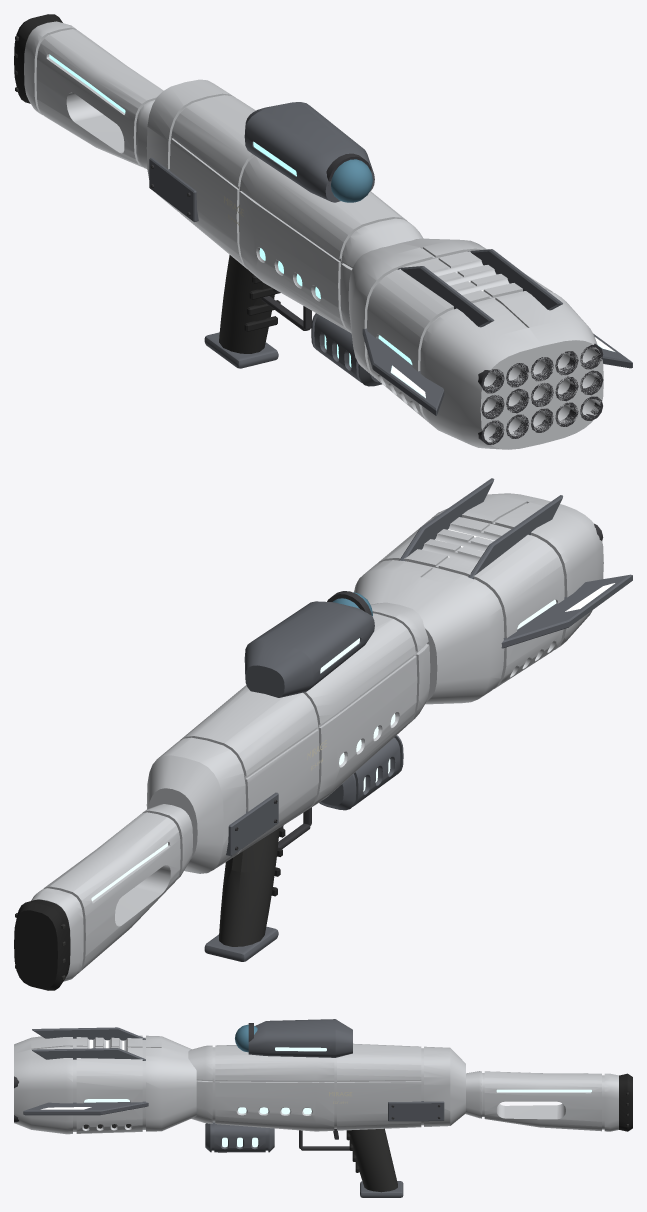
File: mirage.glb
3 views of the same model, one above another, from view 1: azimuth 30°, elevation 25°; view 2: azimuth 150°, elevation 25°; view 3: azimuth 270°, elevation 25° (orthographic). The views are drawn at different scales.
Parts seen in each view (by area): view 1: Body; view 2: Body; view 3: Body.
Part boxes in pixels (left/top/right/bottom): Body: left=14, top=14, right=632, bottom=449; Body: left=14, top=478, right=632, bottom=990; Body: left=14, top=1019, right=632, bottom=1197.
Size of the model in its own units: 0.16 by 0.2136 by 0.712.
